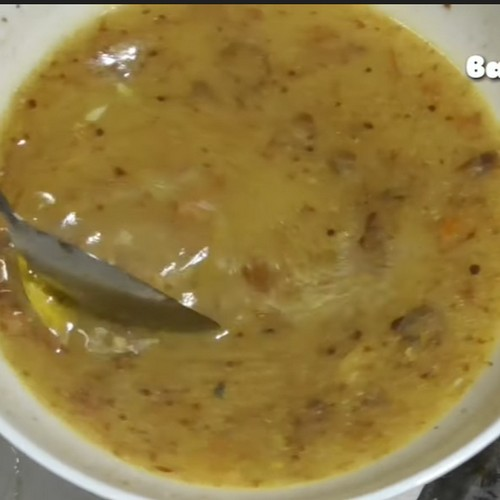komoh: (72, 4, 435, 244)
